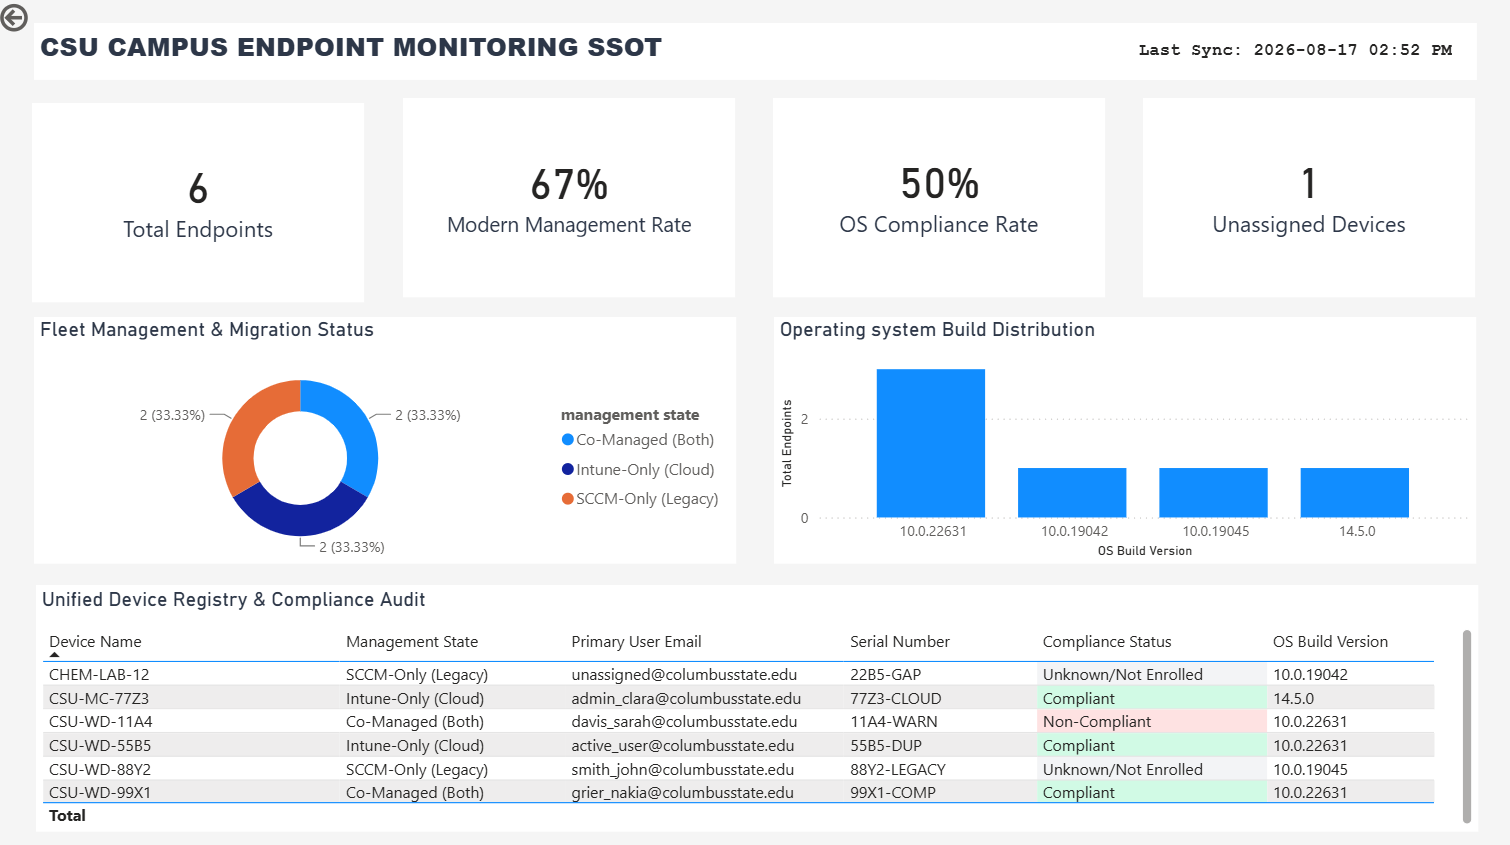

The page's visual inventory and layout, read from the dashboard file:
{"tool":"powerbi","page":{"name":"C","canvas":[1280,720],"ordinal":0},"visuals":[{"type":"cardVisual","fields":{"Data":["vw_powerbi_unified_endpoints.OS Compliance Rate"]},"box":[655.6,87.5,280,168],"z":0},{"type":"donutChart","title":"Fleet Management & Migration Status ","fields":{"Category":["vw_powerbi_unified_endpoints.management_state"],"Y":["vw_powerbi_unified_endpoints.Total Endpoints"]},"box":[33.2,272.7,592,208],"z":1000},{"type":"tableEx","title":"Unified Device Registry & Compliance Audit","fields":{"Values":["vw_powerbi_unified_endpoints.ssot_hostname","vw_powerbi_unified_endpoints.management_state","vw_powerbi_unified_endpoints.primary_user_email","vw_powerbi_unified_endpoints.ssot_serial_number","vw_powerbi_unified_endpoints.clean_compliance_status","vw_powerbi_unified_endpoints.os_build_version"]},"box":[34.8,498.3,1216,208],"z":2000},{"type":"columnChart","title":"Operating system Build Distribution","fields":{"Y":["vw_powerbi_unified_endpoints.Total Endpoints"],"Category":["vw_powerbi_unified_endpoints.os_build_version"]},"box":[657.2,272.7,592,208],"z":3000},{"type":"textbox","box":[33.2,24.7,1216,48],"z":4000},{"type":"cardVisual","fields":{"Data":["vw_powerbi_unified_endpoints.Last Sync Display"]},"box":[793.2,24.7,456,48],"z":5000},{"type":"actionButton","box":[0,0,32,40],"z":6000},{"type":"cardVisual","fields":{"Data":["vw_powerbi_unified_endpoints.Modern Management Rate"]},"box":[344,88,280,168],"z":7000},{"type":"cardVisual","fields":{"Data":["vw_powerbi_unified_endpoints.Total Endpoints"]},"box":[31.2,91.9,280,168],"z":8000},{"type":"cardVisual","fields":{"Data":["vw_powerbi_unified_endpoints.Unassigned Devices Count"]},"box":[967.6,87.5,280,168],"z":9000}]}

Visuals, with their boxes on the page's 1280x720 design canvas (x1, y1, x2, y2). These are canvas units, not pixel positions in the 1510x845 screenshot, which may show the page scaled, cropped or inside an application window:
cardVisual - vw_powerbi_unified_endpoints.OS Compliance Rate: {"left": 656, "top": 88, "right": 936, "bottom": 256}
"Fleet Management & Migration Status " donutChart: {"left": 33, "top": 273, "right": 625, "bottom": 481}
"Unified Device Registry & Compliance Audit" tableEx: {"left": 35, "top": 498, "right": 1251, "bottom": 706}
"Operating system Build Distribution" columnChart: {"left": 657, "top": 273, "right": 1249, "bottom": 481}
textbox: {"left": 33, "top": 25, "right": 1249, "bottom": 73}
cardVisual - vw_powerbi_unified_endpoints.Last Sync Display: {"left": 793, "top": 25, "right": 1249, "bottom": 73}
actionButton: {"left": 0, "top": 0, "right": 32, "bottom": 40}
cardVisual - vw_powerbi_unified_endpoints.Modern Management Rate: {"left": 344, "top": 88, "right": 624, "bottom": 256}
cardVisual - vw_powerbi_unified_endpoints.Total Endpoints: {"left": 31, "top": 92, "right": 311, "bottom": 260}
cardVisual - vw_powerbi_unified_endpoints.Unassigned Devices Count: {"left": 968, "top": 88, "right": 1248, "bottom": 256}
